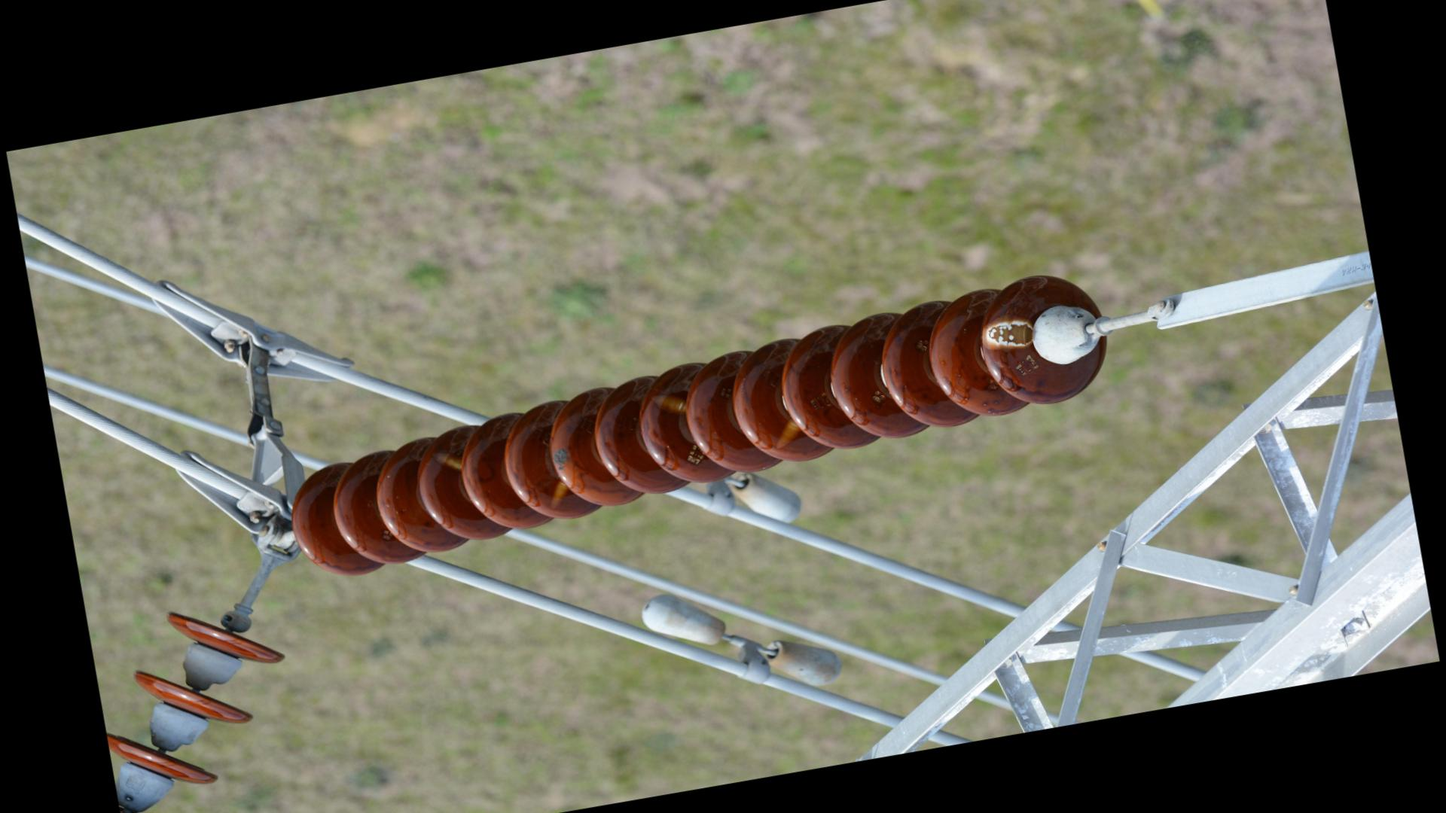damper: (633, 561, 852, 720), (696, 463, 810, 541)
